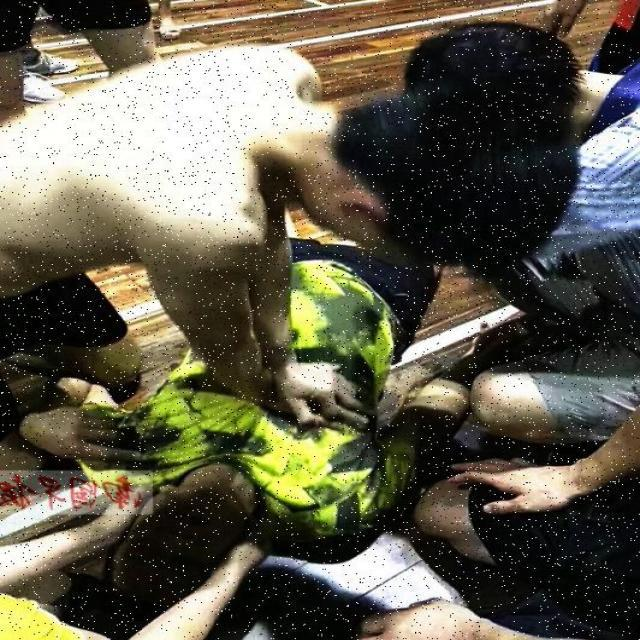fall: (61, 264, 437, 610)
